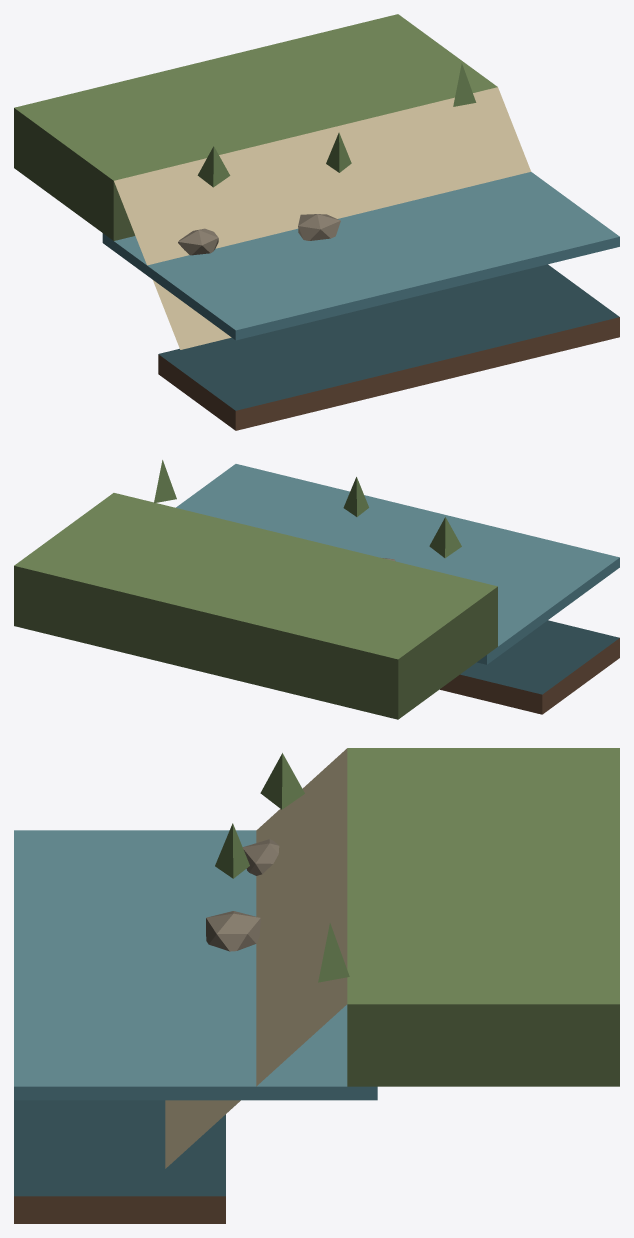
File: t_bank.glb
The picture shows the model from 3 angles, top to bottom: view 1: azimuth 30°, elevation 25°; view 2: azimuth 150°, elevation 25°; view 3: azimuth 270°, elevation 25°; orthographic projection. The views are drawn at different scales.
Parts seen in each view (by area): view 1: t_bank, t_bank_water; view 2: t_bank, t_bank_water; view 3: t_bank, t_bank_water.
Part boxes in pixels (x1,y1,x2,y2): t_bank: (14, 14, 619, 430); t_bank_water: (102, 172, 619, 340); t_bank: (14, 460, 619, 719); t_bank_water: (176, 464, 619, 664); t_bank: (14, 748, 619, 1223); t_bank_water: (14, 830, 377, 1100).
Size of the model in its own units: 2 by 0.9951 by 2.
